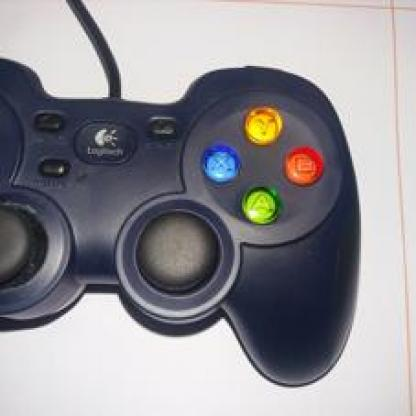gamepad: (0, 48, 414, 401)
